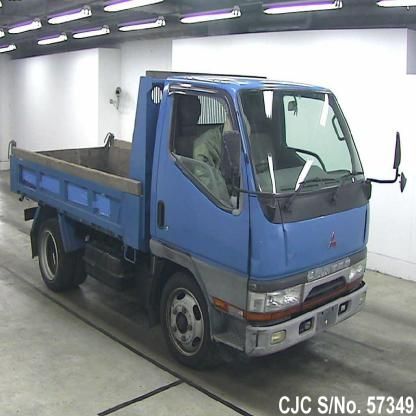truck: (11, 73, 402, 365)
